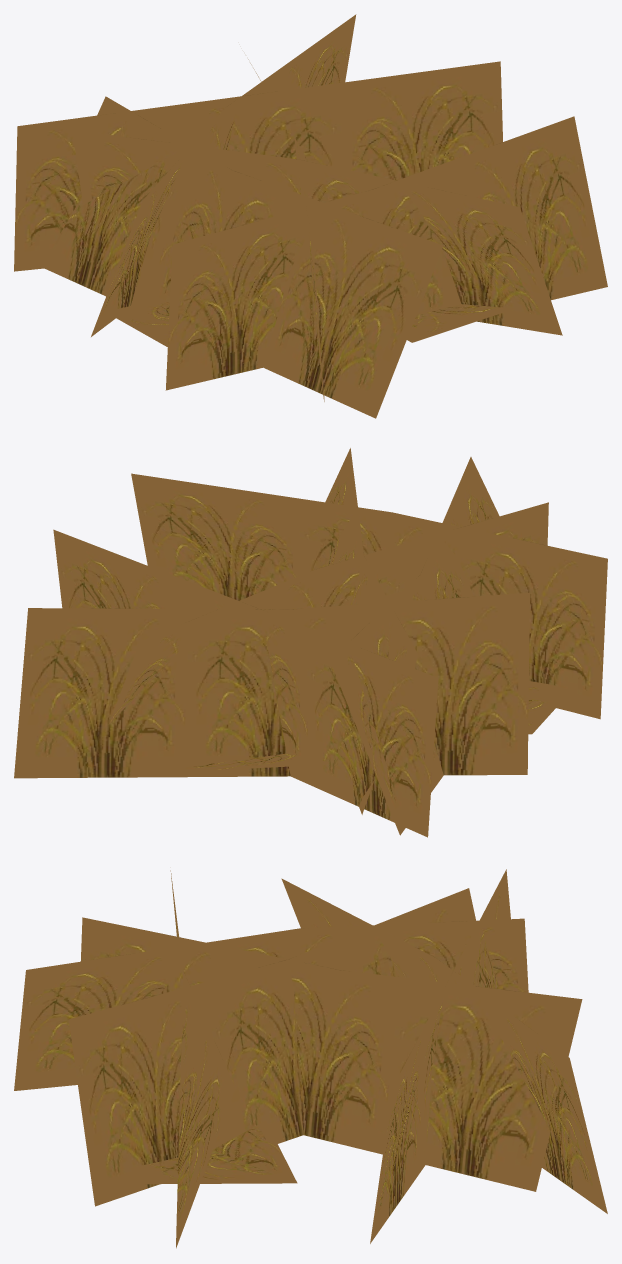
File: group_grs03_1.glb
The picture shows the model from 3 angles, top to bottom: view 1: azimuth 30°, elevation 25°; view 2: azimuth 150°, elevation 25°; view 3: azimuth 270°, elevation 25°; orthographic projection. The views are drawn at different scales.
Visible parts, largest first — view 1: group_grs03_1; view 2: group_grs03_1; view 3: group_grs03_1.
Part boxes in pixels (x1=…): group_grs03_1: x1=14, y1=14, x2=607, y2=418; group_grs03_1: x1=14, y1=448, x2=607, y2=837; group_grs03_1: x1=14, y1=869, x2=607, y2=1248.
Size of the model in its own units: 4.08 by 1.34 by 4.55.
Materials: 1 (1 with a texture image).
